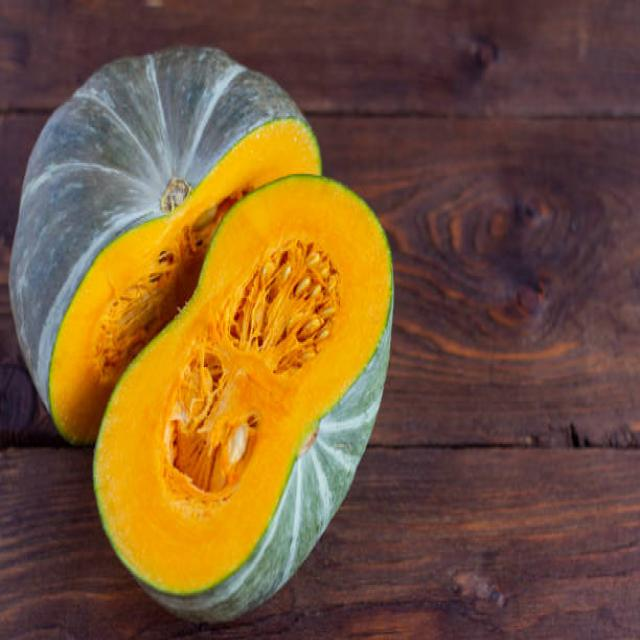pumpkin: (7, 49, 393, 616)
